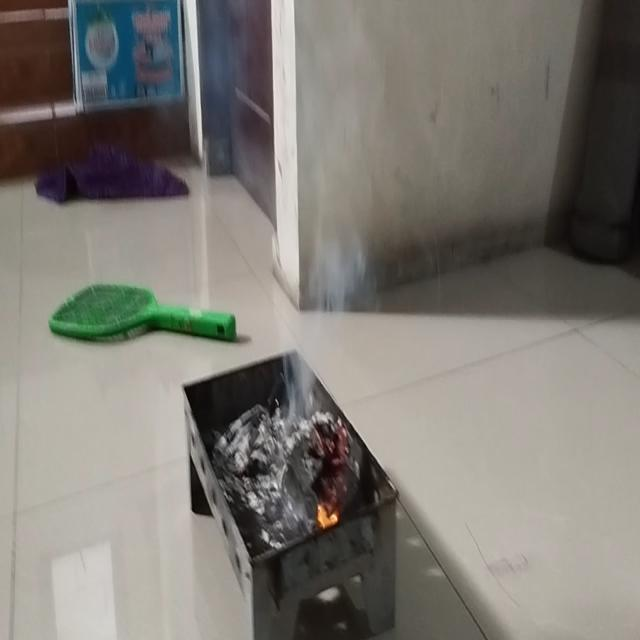fire: (288, 230, 374, 408)
smoke: (314, 497, 343, 534)
